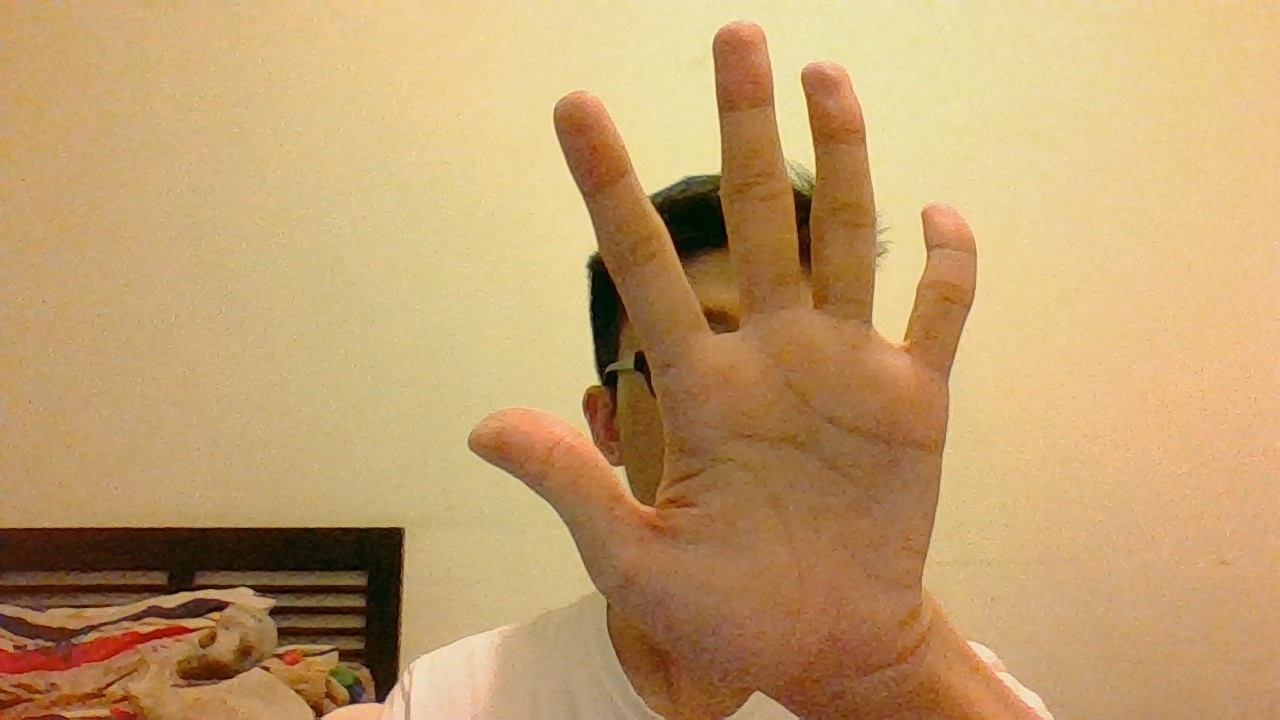Hello: (464, 20, 984, 688)
